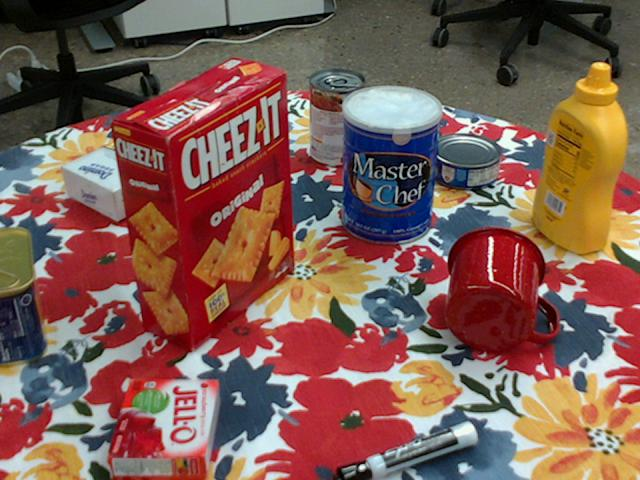cracker_box: (106, 57, 289, 349)
gelatin_box: (111, 379, 220, 479)
large_marker: (335, 421, 479, 479)
master_chef_can: (342, 85, 442, 246)
mug: (445, 226, 558, 352)
mustard_bottle: (529, 64, 624, 254)
potted_meat_can: (0, 226, 45, 364)
sugar_box: (60, 116, 226, 222)
tomato_soup_can: (308, 68, 364, 167)
tuna_fish_can: (430, 134, 502, 190)
